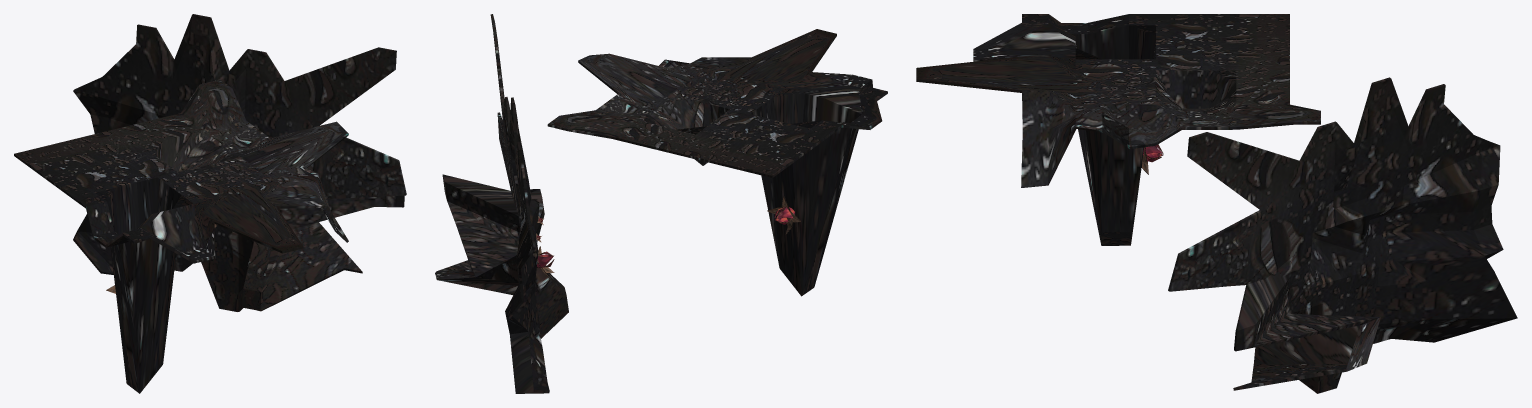
Rendered from ROOMC_Alien_goop.fbx.
3 views of the same model, side by side, from view 1: azimuth 30°, elevation 25°; view 2: azimuth 150°, elevation 25°; view 3: azimuth 270°, elevation 25° (orthographic). The views are drawn at different scales.
Parts seen in each view (by area): view 1: Grid.001, Grid; view 2: Grid.001, Grid; view 3: Grid, Grid.001.
Part boxes in pixels (x1,y1,x2,y2): Grid.001: [14, 79, 348, 393]; Grid: [73, 14, 406, 311]; Grid.001: [547, 29, 887, 296]; Grid: [435, 14, 568, 393]; Grid: [1168, 77, 1517, 393]; Grid.001: [916, 14, 1320, 245].
Size of the model in its own units: 85.99 by 60.42 by 106.
